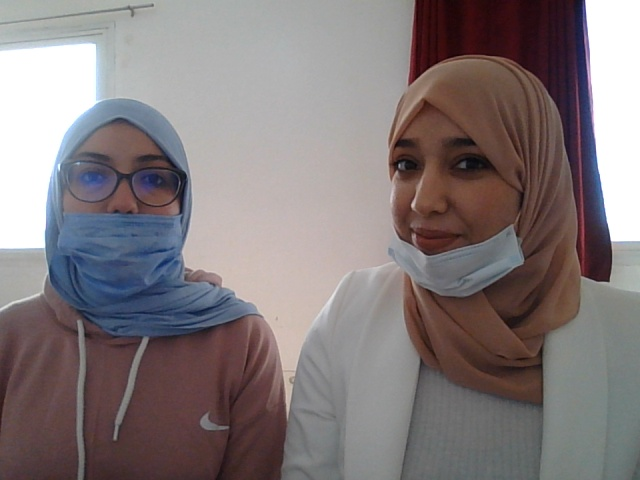mask_weared_incorrect: (368, 48, 533, 294), (38, 108, 186, 307)
